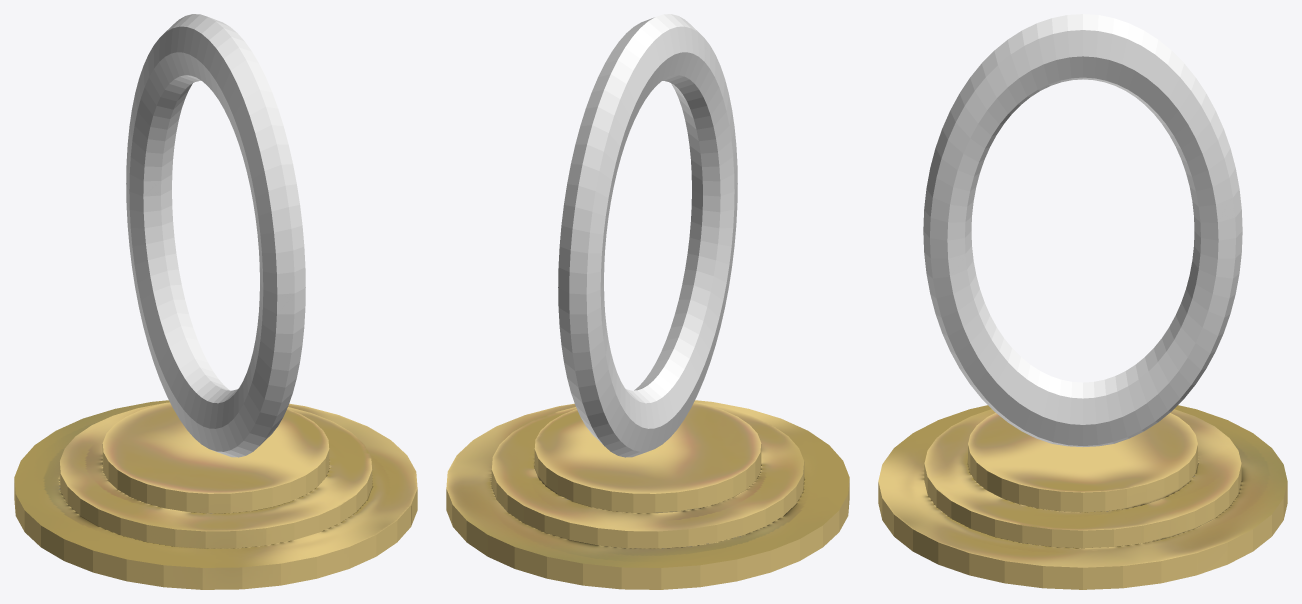
The model's file is Portal.glb.
3 views of the same model, side by side, from view 1: azimuth 30°, elevation 25°; view 2: azimuth 150°, elevation 25°; view 3: azimuth 270°, elevation 25° (orthographic).
Parts seen in each view (by area): view 1: Base, Circle; view 2: Base, Circle; view 3: Base, Circle.
Boxes of the visible parts, <box> form: Base: <box>14,400,417,589</box>; Circle: <box>126,14,305,457</box>; Base: <box>446,400,849,589</box>; Circle: <box>558,14,737,457</box>; Base: <box>878,405,1287,589</box>; Circle: <box>923,14,1242,446</box>.
Size of the model in its own units: 2 by 2.64 by 2.
2 materials, 2 textured.
